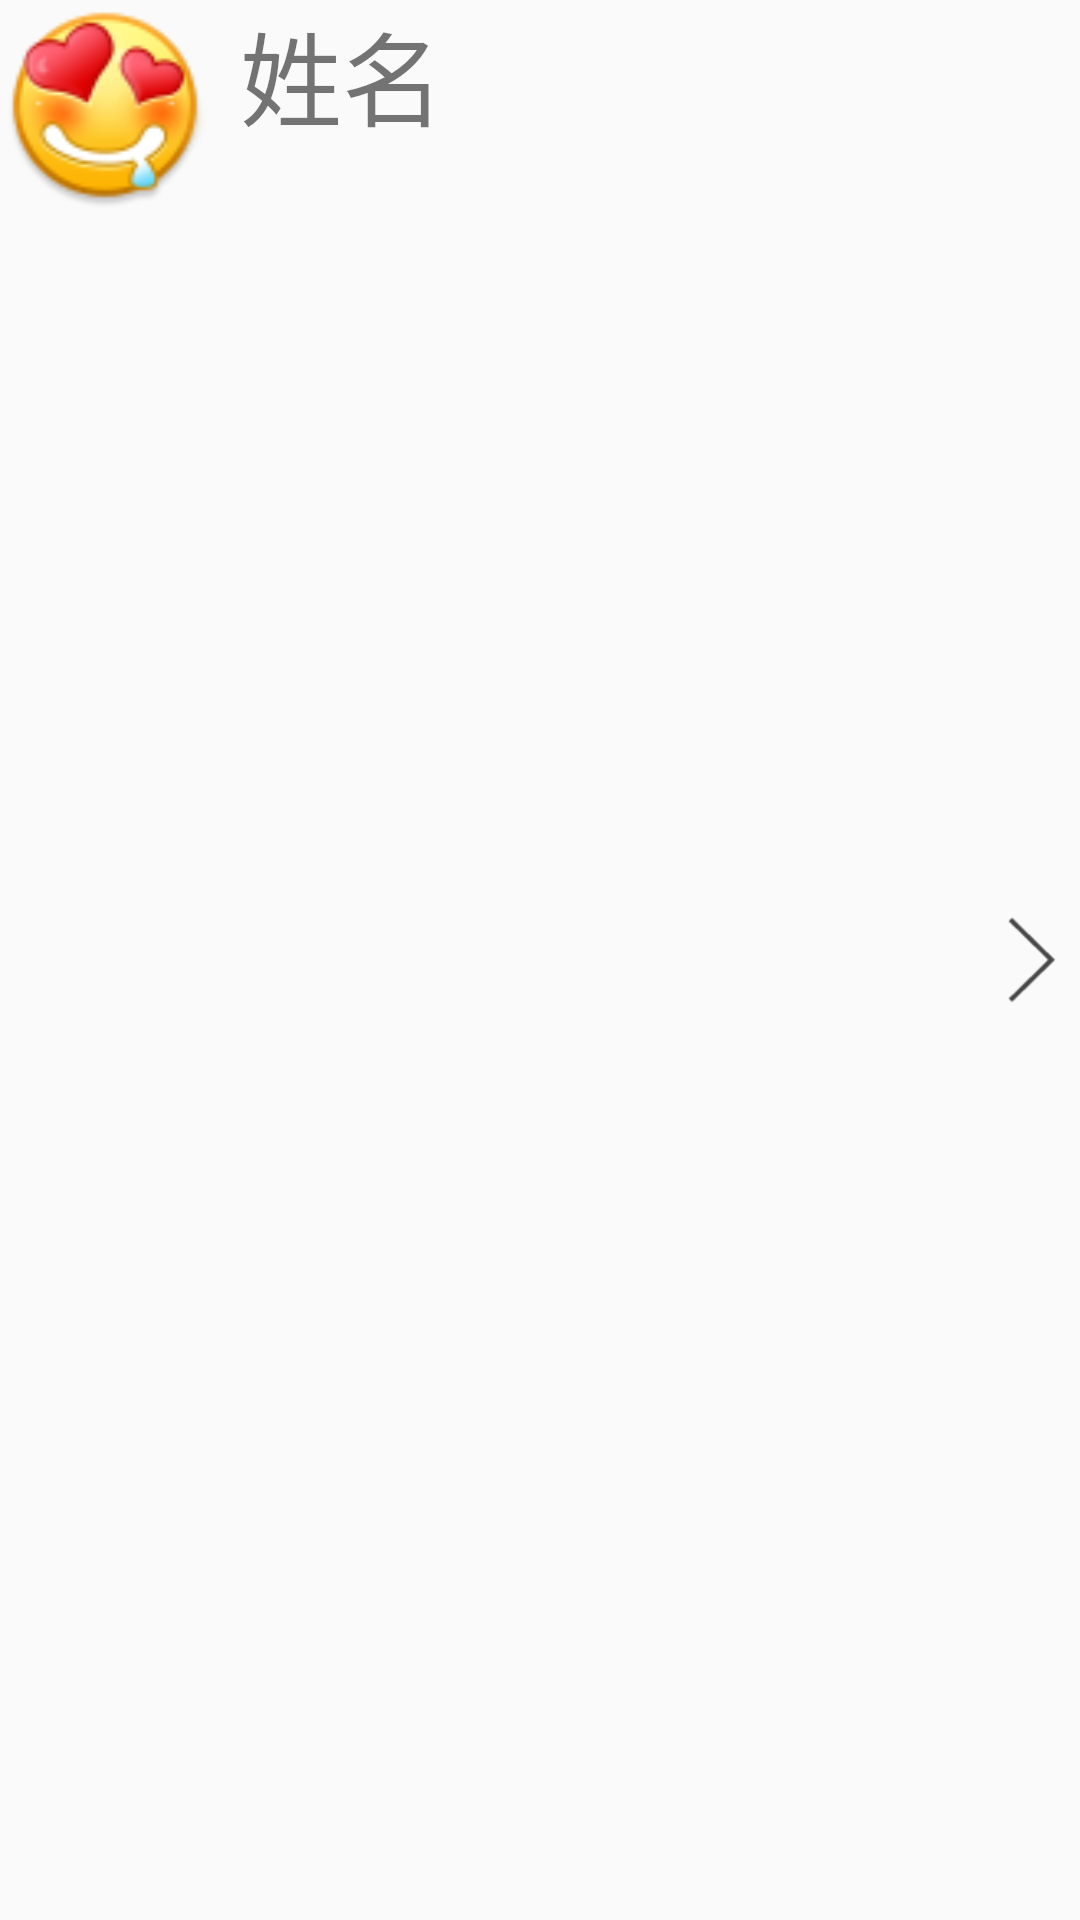

Point at icon controls on the screen. Image size 1080px x 1920px, points as (x=x, y=y).
emotion: (x=105, y=107)
enter: (x=1031, y=960)
